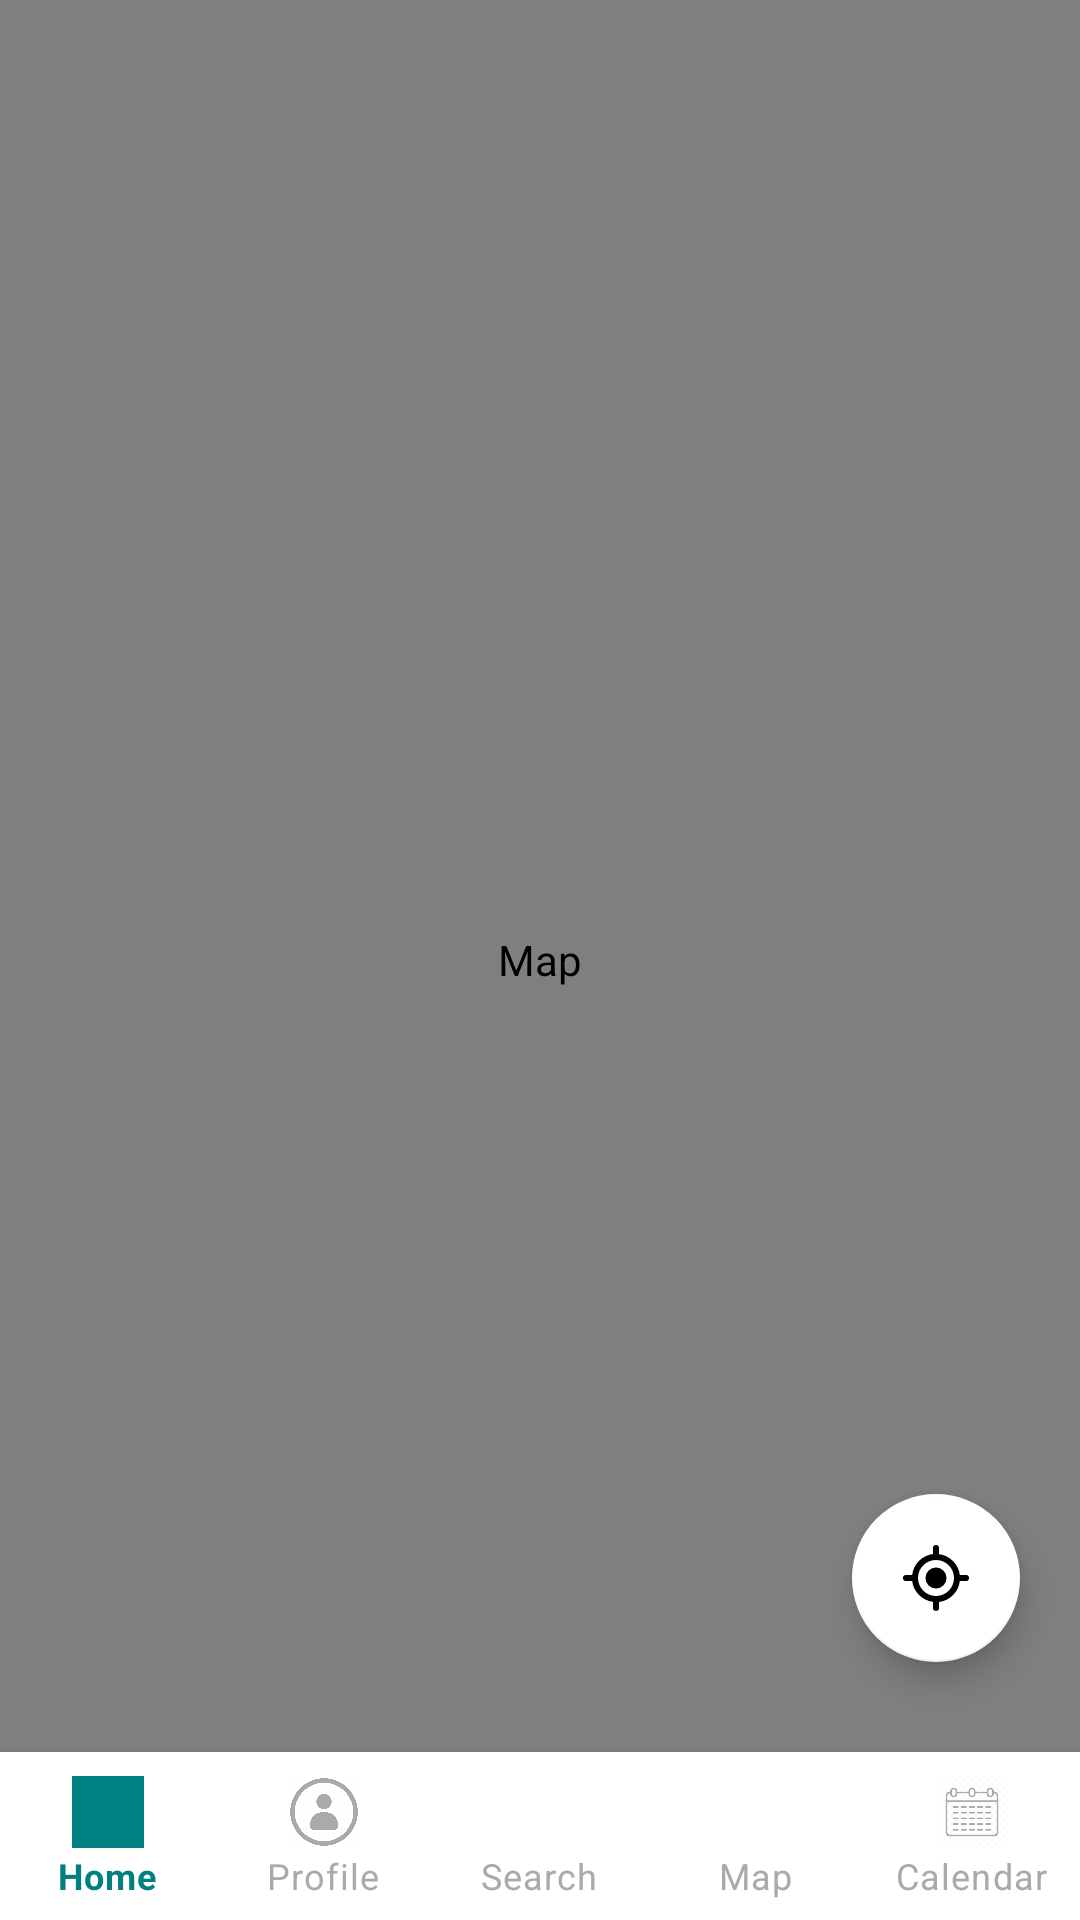

Screen size 1080×1920. Icon name, then its center in pixels as (x=x, y=y):
Recenter map: (x=936, y=1578)
